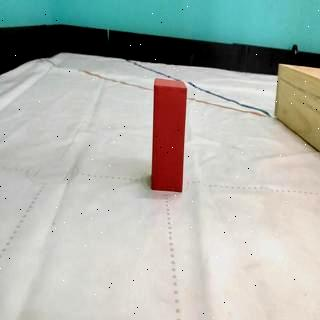redbox: (150, 76, 188, 194)
